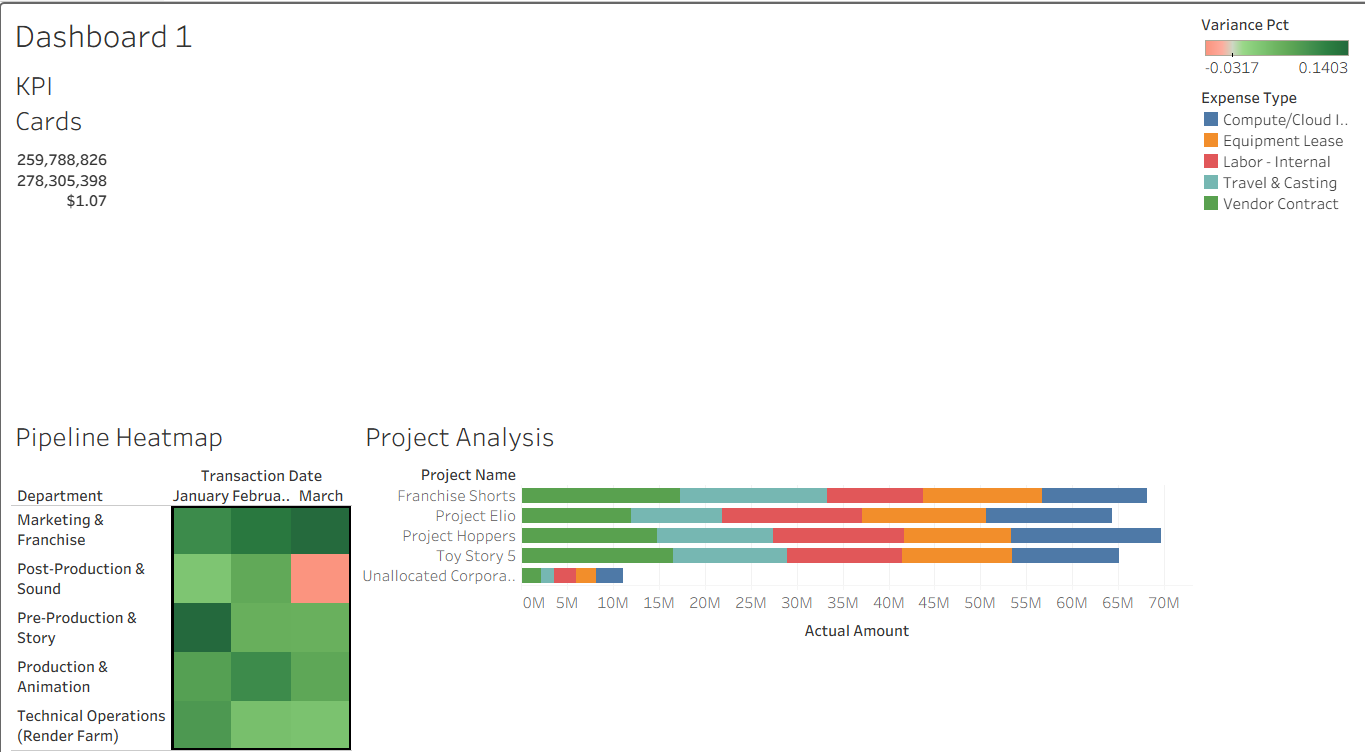

Layout of this report page (visuals, bound fields, positions):
{"tool":"tableau","page":{"name":"Dashboard 1","canvas":[1366,768],"ordinal":0},"visuals":[{"type":"title","box":[8,8,1190,50]},{"type":"legend","title":"Pipeline Heatmap","param":"[federated.0vqpsqr0gakqpo16373t31piamwx].[usr:Calculation_3147088901451790:qk]","box":[1198,8,160,73]},{"type":"worksheet","title":"KPI Cards","mark":"Automatic","box":[8,58,1190,351]},{"type":"legend","title":"Project Analysis","param":"[federated.0vqpsqr0gakqpo16373t31piamwx].[none:Expense_Type:nk]","box":[1198,81,160,135]},{"type":"worksheet","title":"Pipeline Heatmap","mark":"Automatic","rows":["Department"],"cols":["Transaction_Date"],"box":[8,409,290,344]},{"type":"worksheet","title":"Project Analysis","mark":"Automatic","rows":["Project_Name"],"cols":["Actual_Amount"],"box":[298,409,900,344]}]}

Visuals, with their boxes in screenshot pixels (x1, y1, x2, y2), scaled from the page's 1366x768 canvas onto the 1365x752 screenshot:
title: BBox(8, 8, 1197, 57)
"Pipeline Heatmap" legend: BBox(1197, 8, 1357, 79)
"KPI Cards" worksheet: BBox(8, 57, 1197, 400)
"Project Analysis" legend: BBox(1197, 79, 1357, 212)
"Pipeline Heatmap" worksheet: BBox(8, 400, 298, 737)
"Project Analysis" worksheet: BBox(298, 400, 1197, 737)
